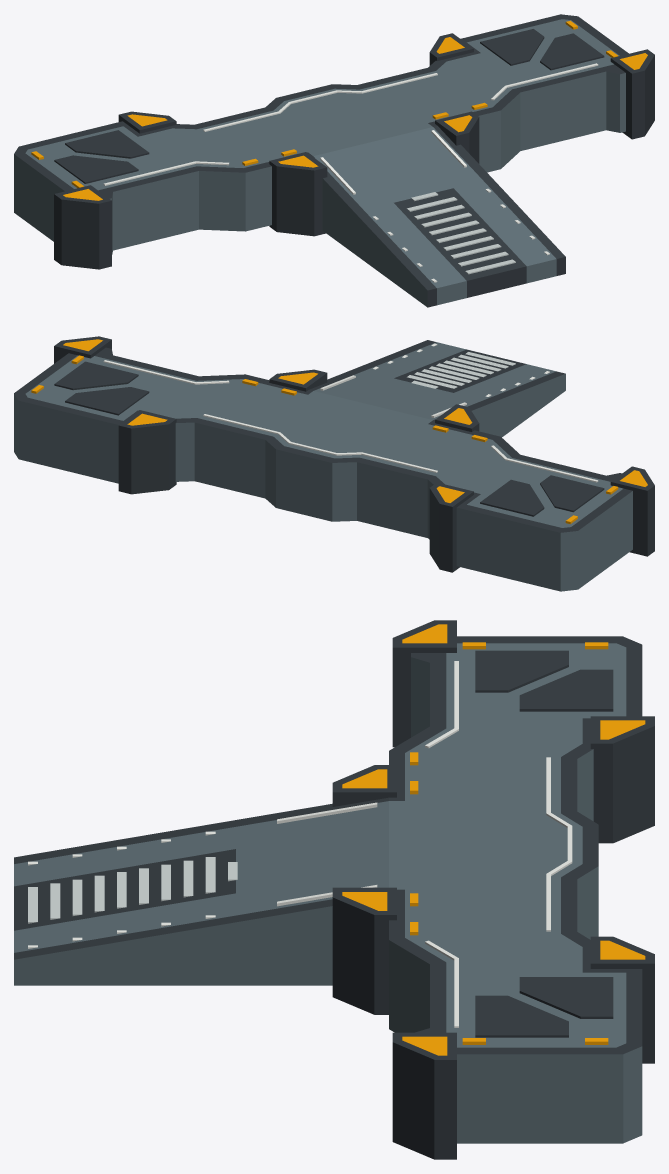
File: prop44.FBX
The picture shows the model from 3 angles, top to bottom: view 1: azimuth 30°, elevation 25°; view 2: azimuth 150°, elevation 25°; view 3: azimuth 270°, elevation 25°; orthographic projection. The views are drawn at different scales.
Visible parts, largest first — view 1: prop44; view 2: prop44; view 3: prop44.
Boxes of the visible parts, x1,y1,x2,y2 form: prop44: [14, 14, 654, 307]; prop44: [14, 336, 654, 591]; prop44: [14, 620, 654, 1159].
Size of the model in its own units: 42.15 by 4.47 by 25.98.
